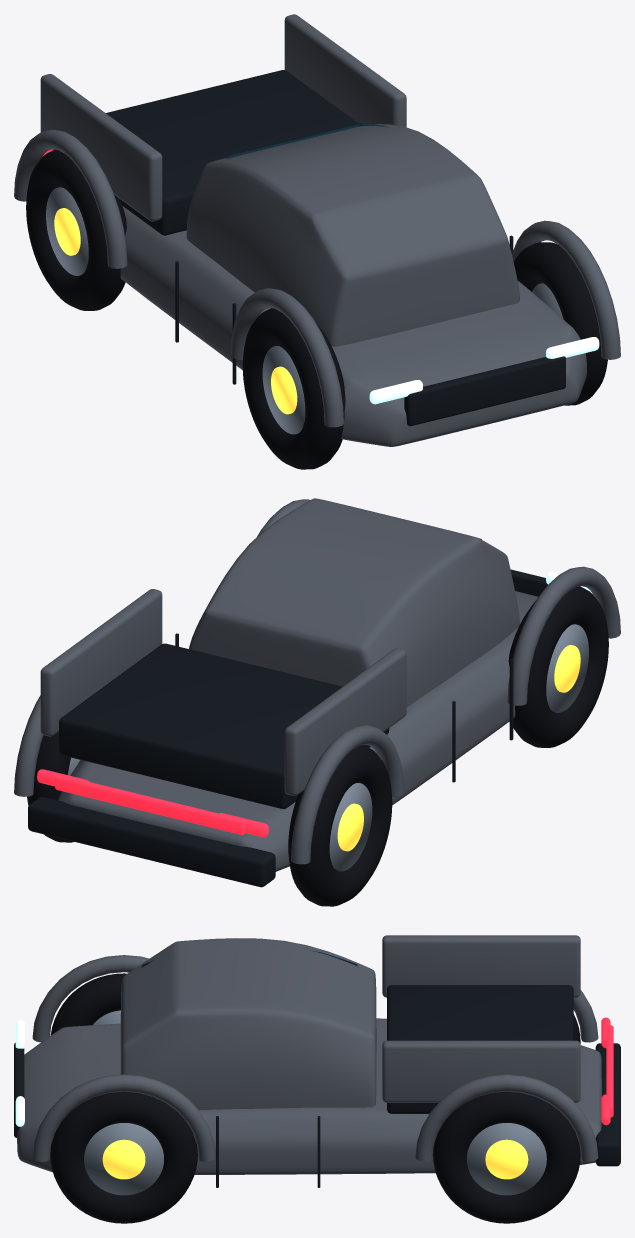
File: rainline_irontrail_x_v3.glb
3 views of the same model, one above another, from view 1: azimuth 30°, elevation 25°; view 2: azimuth 150°, elevation 25°; view 3: azimuth 270°, elevation 25° (orthographic). The views are drawn at different scales.
Parts seen in each view (by area): view 1: Irontrail crew cab, Irontrail broad chassis, Irontrail open cargo bed, Irontrail performance tire, Irontrail performance tire.001, Irontrail bed rail, Irontrail bed rail.001, Irontrail grille, Irontrail performance tire.002, Irontrail painted fender, Irontrail painted fender.001, Irontrail painted fender.002 (+7 smaller); view 2: Irontrail crew cab, Irontrail open cargo bed, Irontrail broad chassis, Irontrail bumper, Irontrail performance tire.001, Irontrail bed rail.001, Irontrail performance tire, Irontrail bed rail, Irontrail painted fender.001, Irontrail painted fender, Irontrail tail lamp bar, Irontrail alloy wheel (+6 smaller); view 3: Irontrail crew cab, Irontrail broad chassis, Irontrail open cargo bed, Irontrail performance tire.003, Irontrail performance tire.002, Irontrail bed rail, Irontrail bed rail.001, Irontrail painted fender.002, Irontrail painted fender.003, Irontrail alloy wheel.002, Irontrail alloy wheel.003, Irontrail painted fender (+7 smaller).
Part boxes in pixels (<box>): Irontrail crew cab: <box>186,124,519,346</box>; Irontrail broad chassis: <box>120,206,586,446</box>; Irontrail open cargo bed: <box>106,70,357,235</box>; Irontrail performance tire: <box>242,308,345,469</box>; Irontrail performance tire.001: <box>26,149,126,310</box>; Irontrail bed rail: <box>40,74,162,221</box>; Irontrail bed rail.001: <box>284,14,406,127</box>; Irontrail grille: <box>404,356,565,426</box>; Irontrail performance tire.002: <box>513,242,607,405</box>; Irontrail painted fender: <box>230,288,343,427</box>; Irontrail painted fender.001: <box>14,129,127,268</box>; Irontrail painted fender.002: <box>512,220,620,359</box>; Irontrail crew cab: <box>189,498,519,707</box>; Irontrail open cargo bed: <box>59,643,389,808</box>; Irontrail broad chassis: <box>58,591,537,871</box>; Irontrail bumper: <box>28,797,275,887</box>; Irontrail performance tire.001: <box>288,745,392,906</box>; Irontrail bed rail.001: <box>40,589,162,736</box>; Irontrail performance tire: <box>508,586,608,747</box>; Irontrail bed rail: <box>284,648,406,795</box>; Irontrail painted fender.001: <box>291,725,404,864</box>; Irontrail painted fender: <box>507,566,620,705</box>; Irontrail tail lamp bar: <box>55,774,245,834</box>; Irontrail alloy wheel: <box>546,624,588,712</box>; Irontrail crew cab: <box>120,938,376,1110</box>; Irontrail broad chassis: <box>17,1018,601,1174</box>; Irontrail open cargo bed: <box>387,985,573,1113</box>; Irontrail performance tire.003: <box>433,1091,580,1223</box>; Irontrail performance tire.002: <box>50,1091,197,1223</box>; Irontrail bed rail: <box>382,935,580,997</box>; Irontrail bed rail.001: <box>382,1040,580,1102</box>; Irontrail painted fender.002: <box>32,1074,215,1161</box>; Irontrail painted fender.003: <box>415,1074,598,1161</box>; Irontrail alloy wheel.002: <box>84,1123,163,1195</box>; Irontrail alloy wheel.003: <box>467,1123,546,1195</box>; Irontrail painted fender: <box>32,955,148,1042</box>.
Size of the model in its own units: 2.64 by 1.85 by 5.26.
